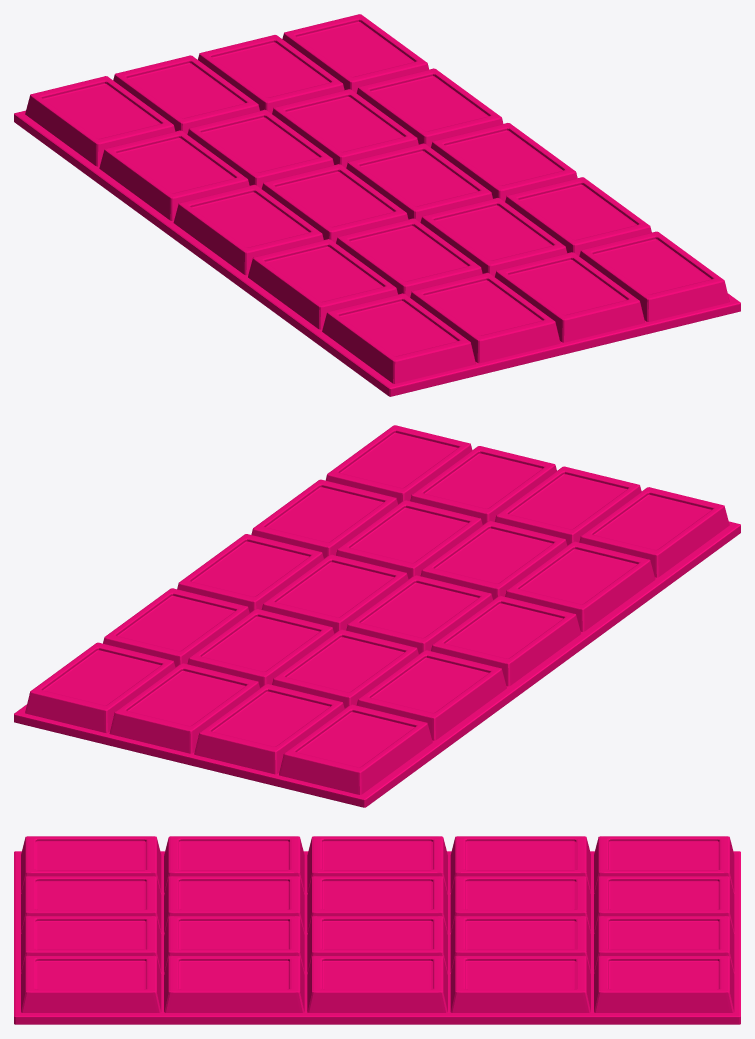
The model's file is PİNK Chocolate.fbx.
3 renders of one model, top to bottom at view 1: azimuth 30°, elevation 25°; view 2: azimuth 150°, elevation 25°; view 3: azimuth 270°, elevation 25°, orthographic. The views are drawn at different scales.
Parts seen in each view (by area): view 1: dark brown; view 2: dark brown; view 3: dark brown.
Part boxes in pixels (x1,y1,x2,y2): dark brown: [14, 14, 740, 396]; dark brown: [14, 425, 740, 807]; dark brown: [14, 836, 740, 1024].
Size of the model in its own units: 416 by 33.09 by 771.
